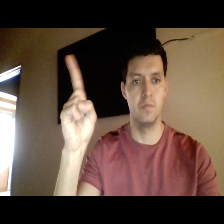2T: (54, 49, 100, 151)
